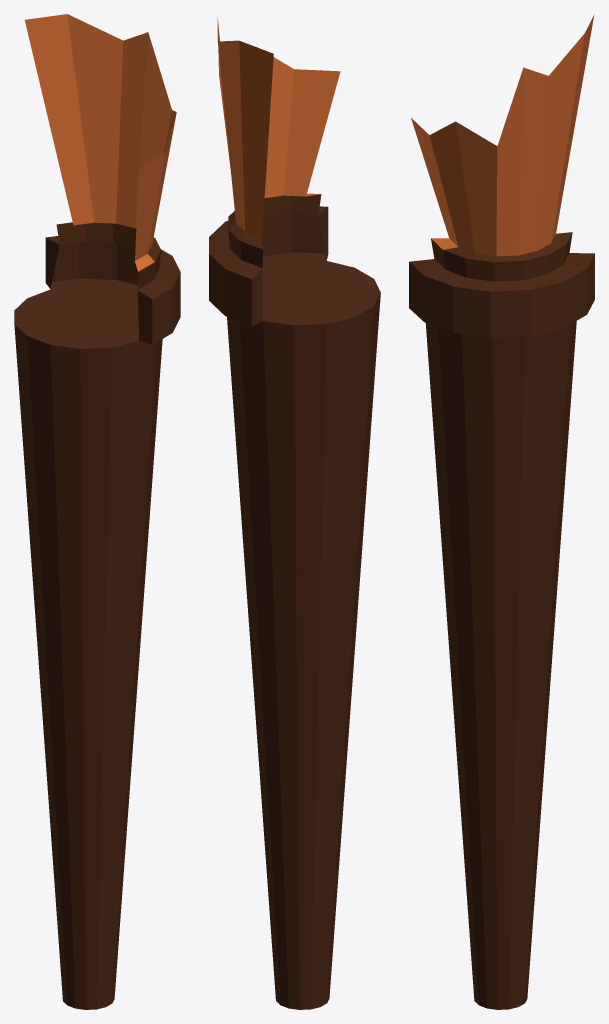
The model's file is fackla.fbx.
3 views of the same model, side by side, from view 1: azimuth 30°, elevation 25°; view 2: azimuth 150°, elevation 25°; view 3: azimuth 270°, elevation 25° (orthographic). The views are drawn at different scales.
Parts seen in each view (by area): view 1: Cylinder.001, Cylinder.002; view 2: Cylinder.001, Cylinder.002; view 3: Cylinder.001, Cylinder.002.
Part boxes in pixels (box(x1,y1,x2,y2)): Cylinder.001: box(14, 222, 180, 1009); Cylinder.002: box(24, 14, 176, 271); Cylinder.001: box(209, 194, 380, 1009); Cylinder.002: box(217, 18, 340, 238); Cylinder.001: box(409, 232, 594, 1009); Cylinder.002: box(411, 15, 594, 256).
Bounding box in the file's own units: 49.22 × 303 × 52.32.
